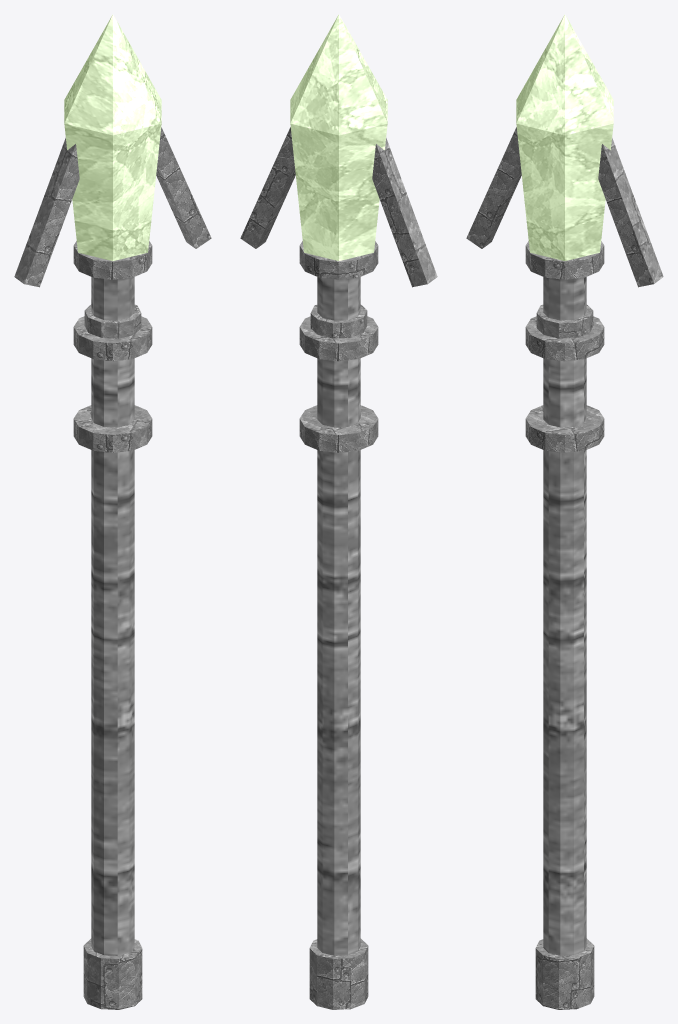
Rendered from staff-venom-crystal.glb.
3 views of the same model, side by side, from view 1: azimuth 30°, elevation 25°; view 2: azimuth 150°, elevation 25°; view 3: azimuth 330°, elevation 25° (orthographic).
Parts seen in each view (by area): view 1: shaft, venom-heart, left-tine, pommel, right-tine, coil-0.3, coil-0.48, coil-0.64, neck-band; view 2: shaft, venom-heart, left-tine, pommel, right-tine, coil-0.3, coil-0.48, coil-0.64, neck-band; view 3: shaft, venom-heart, right-tine, pommel, left-tine, coil-0.3, coil-0.48, coil-0.64, neck-band.
Boxes of the visible parts, box(x1,y1,x2,y2) form: shaft: box(91, 277, 134, 955); venom-heart: box(64, 14, 161, 260); left-tine: box(14, 138, 79, 287); pommel: box(83, 938, 142, 1009); right-tine: box(156, 127, 211, 248); coil-0.3: box(73, 405, 152, 452); coil-0.48: box(73, 316, 152, 361); coil-0.64: box(73, 241, 152, 279); neck-band: box(84, 304, 141, 338); shaft: box(317, 277, 360, 955); venom-heart: box(290, 14, 387, 260); left-tine: box(372, 138, 437, 287); pommel: box(309, 938, 368, 1009); right-tine: box(240, 127, 295, 248); coil-0.3: box(299, 405, 378, 452); coil-0.48: box(299, 316, 378, 361); coil-0.64: box(299, 241, 378, 279); neck-band: box(310, 304, 367, 338); shaft: box(543, 277, 586, 955); venom-heart: box(516, 14, 613, 260); right-tine: box(598, 138, 663, 287); pommel: box(535, 938, 594, 1009); left-tine: box(466, 127, 521, 248); coil-0.3: box(525, 405, 604, 452); coil-0.48: box(525, 316, 604, 361); coil-0.64: box(525, 241, 604, 279); neck-band: box(536, 304, 593, 338).
Bounding box in the file's own units: 0.3855 × 1.93 × 0.1732.
3 materials, 3 textured.
